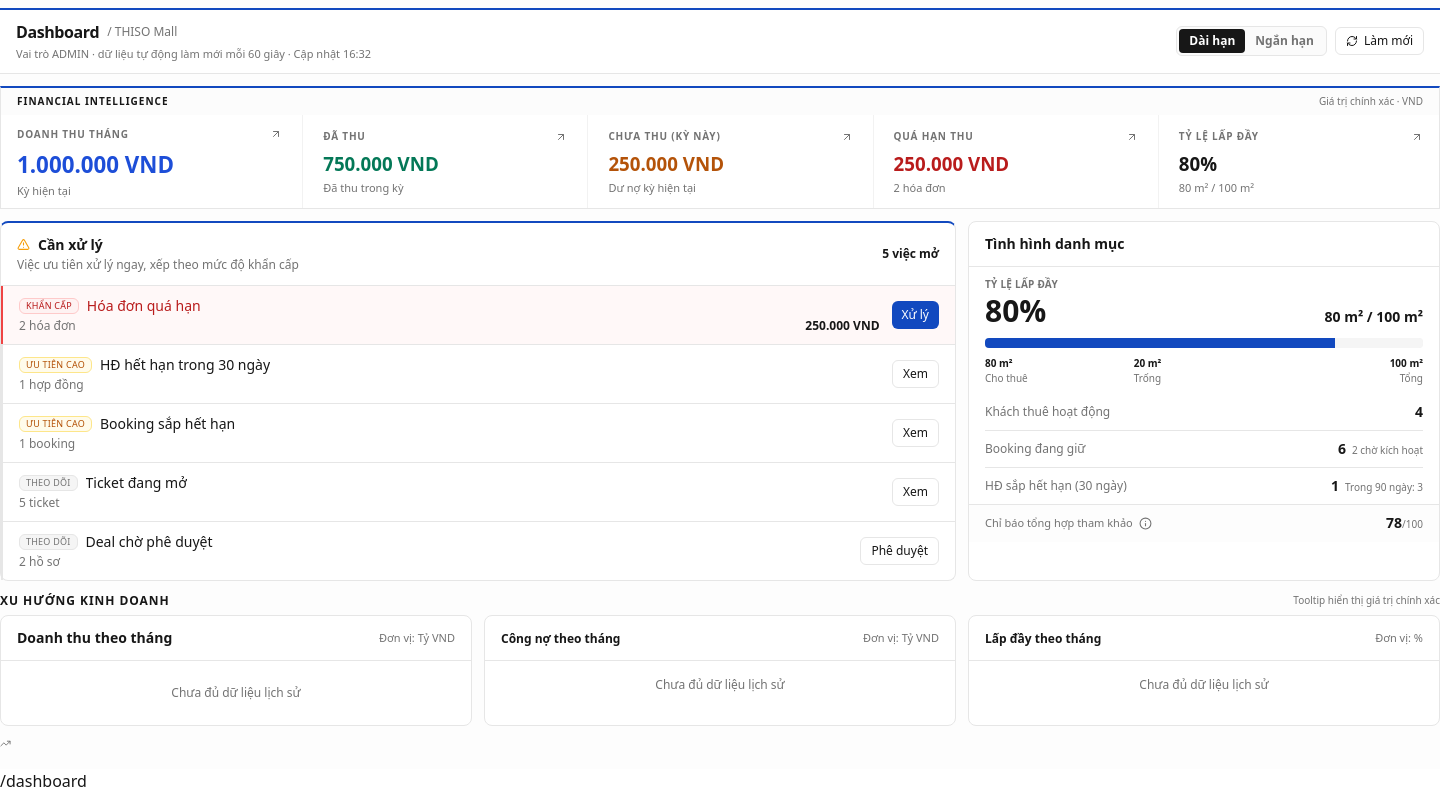
Test: DashboardPage › labels financial chart scales and demotes the composite score
Check: the text "Chỉ báo tổng hợp tham khảo" is shown, box [985,515,1133,532]
Check: the text "1.000.000 VND" is shown, box [17,148,174,180]
Click the button named "Phương pháp chỉ báo".
click(1145, 524)  # box [1139,517,1152,530]
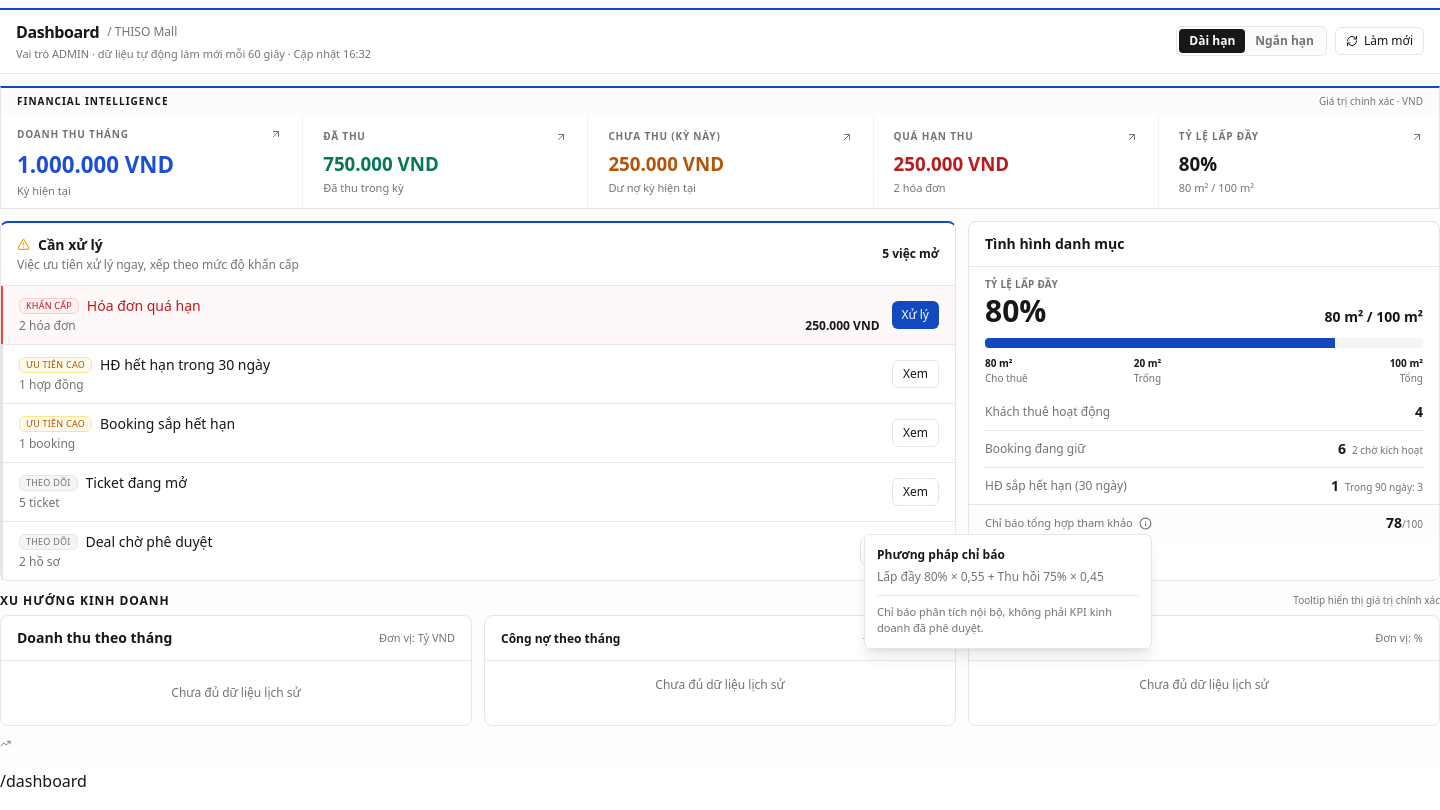
Check: the text "Đơn vị: Tỷ VND" is shown, box [379,630,455,646]
Check: the text "không phải KPI kinh doanh đã phê duyệt" is shown, box [877,604,1112,635]
